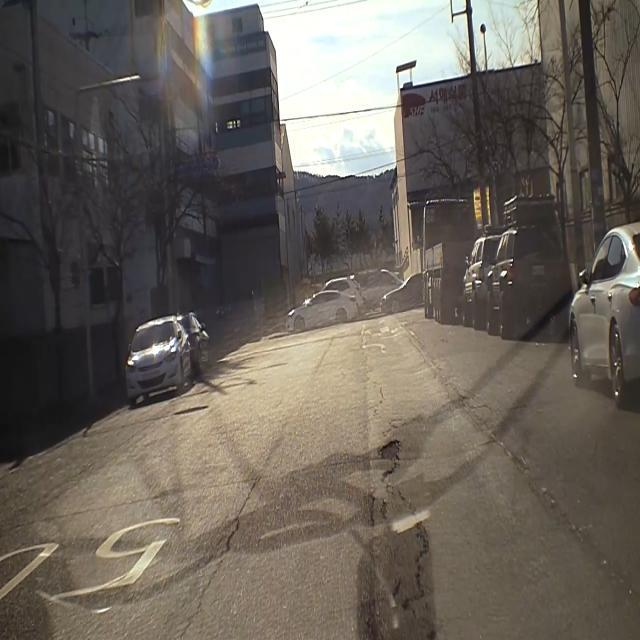Buraco: (375, 438, 405, 462)
